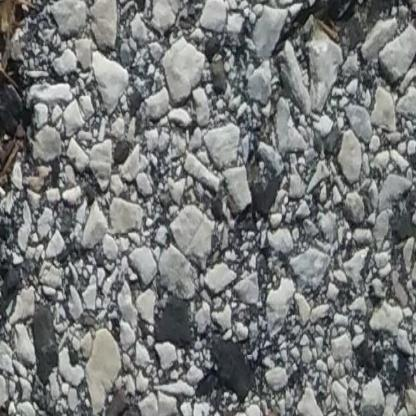Cracks: (0, 0, 50, 328)
